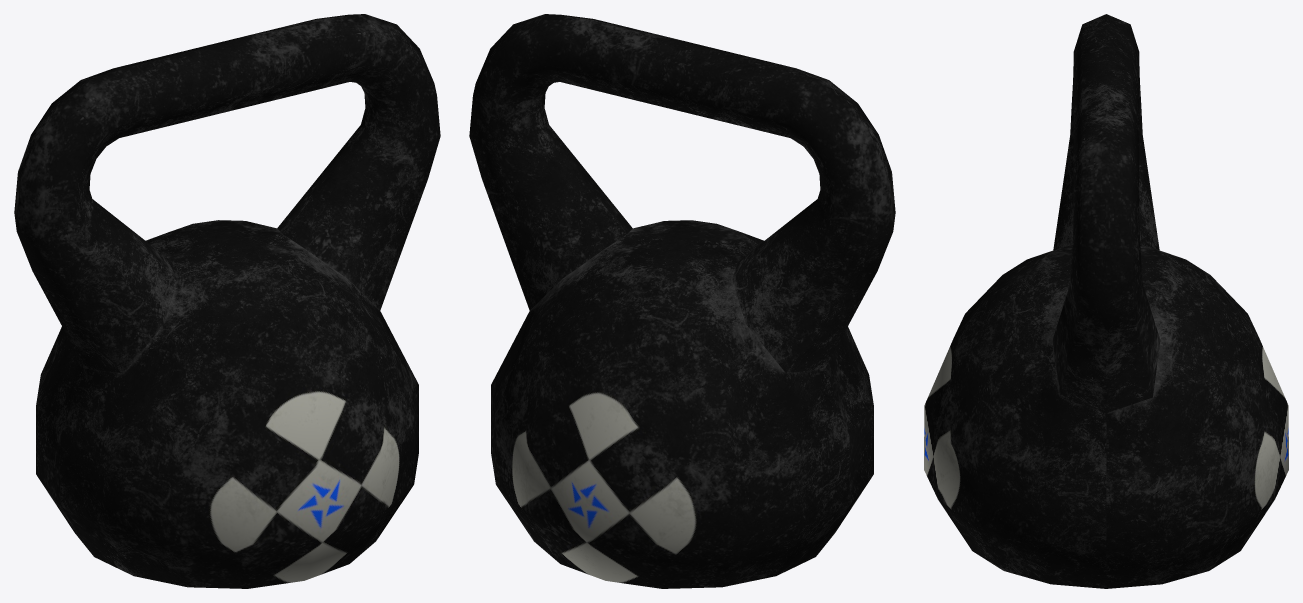
File: Gym_Kettlebell_-_Low_Poly.glb
3 views of the same model, side by side, from view 1: azimuth 30°, elevation 25°; view 2: azimuth 150°, elevation 25°; view 3: azimuth 270°, elevation 25° (orthographic). The views are drawn at different scales.
Visible parts, largest first — view 1: Kettlebell_Kettlebell_0; view 2: Kettlebell_Kettlebell_0; view 3: Kettlebell_Kettlebell_0.
Boxes of the visible parts, x1,y1,x2,y2 form: Kettlebell_Kettlebell_0: [14, 14, 440, 588]; Kettlebell_Kettlebell_0: [469, 14, 895, 588]; Kettlebell_Kettlebell_0: [924, 14, 1288, 588].
Size of the model in its own units: 23.99 by 27.81 by 19.05.
Materials: 1 (1 with a texture image).
